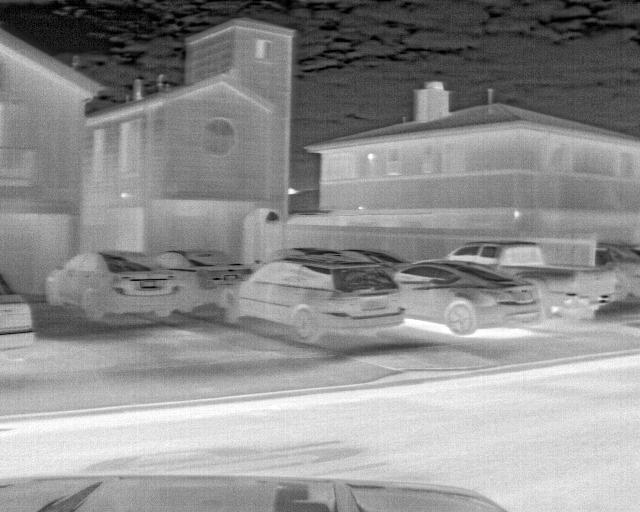car: (228, 258, 402, 346), (444, 241, 619, 326), (394, 259, 541, 335), (44, 252, 176, 323), (124, 248, 255, 315), (0, 276, 38, 366), (342, 246, 405, 274)
